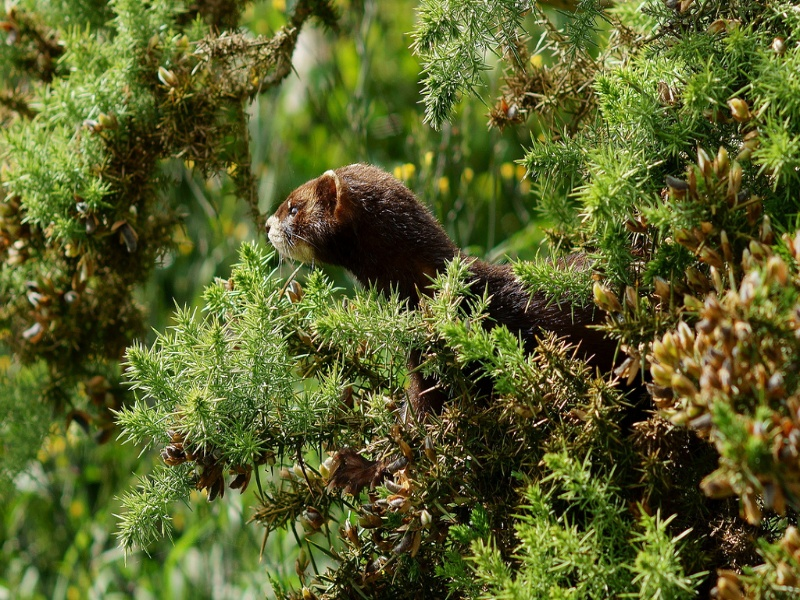minkish: (262, 156, 648, 382)
